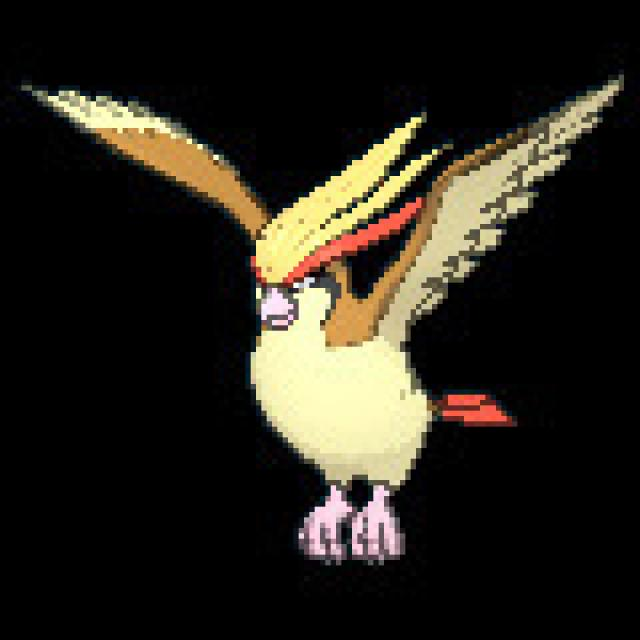Pidgeot: (125, 111, 574, 567)
